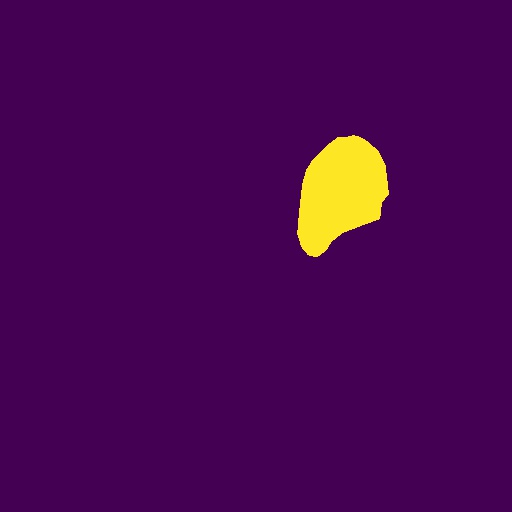Menigiomia_tumour: (297, 135, 389, 257)
